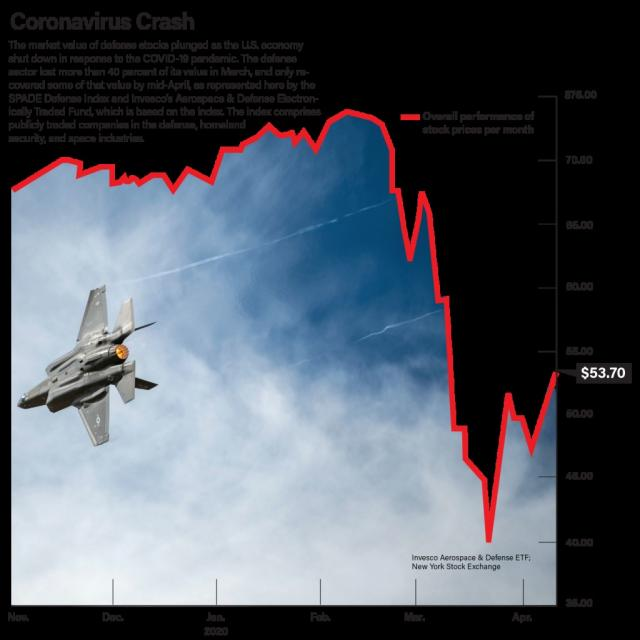MIL_Plane: (16, 284, 159, 447)
